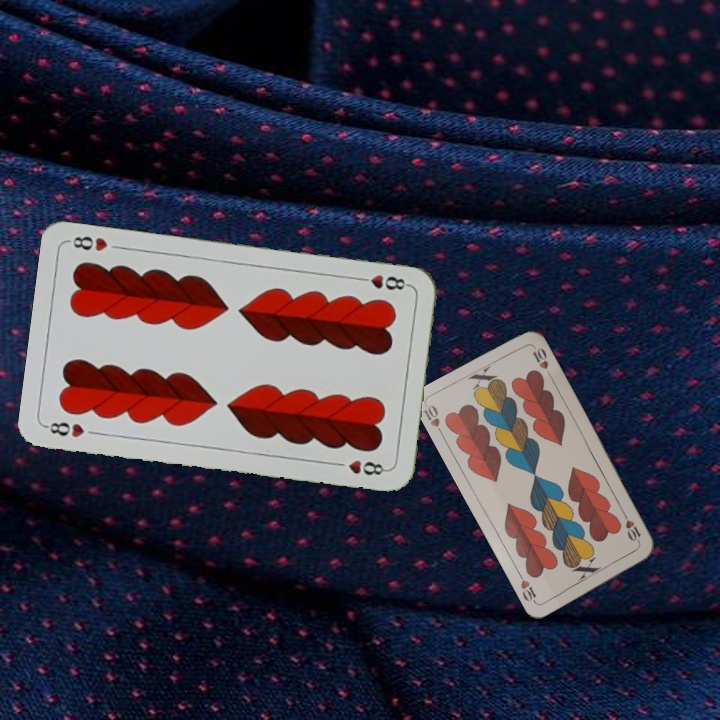H10: (420, 401, 446, 439), (619, 508, 644, 547)
H8: (353, 271, 412, 293), (42, 418, 87, 440)
